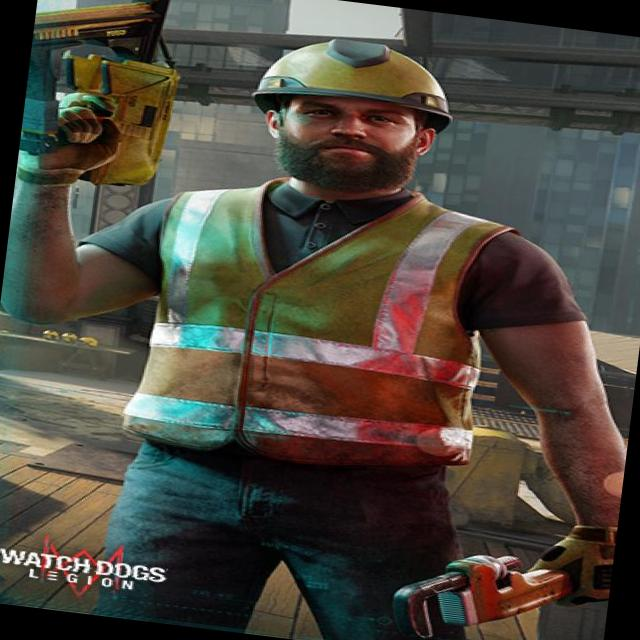Gloves: (529, 501, 619, 613), (23, 93, 126, 184)
Helmet: (241, 27, 479, 122)
Vest: (151, 176, 509, 482)
